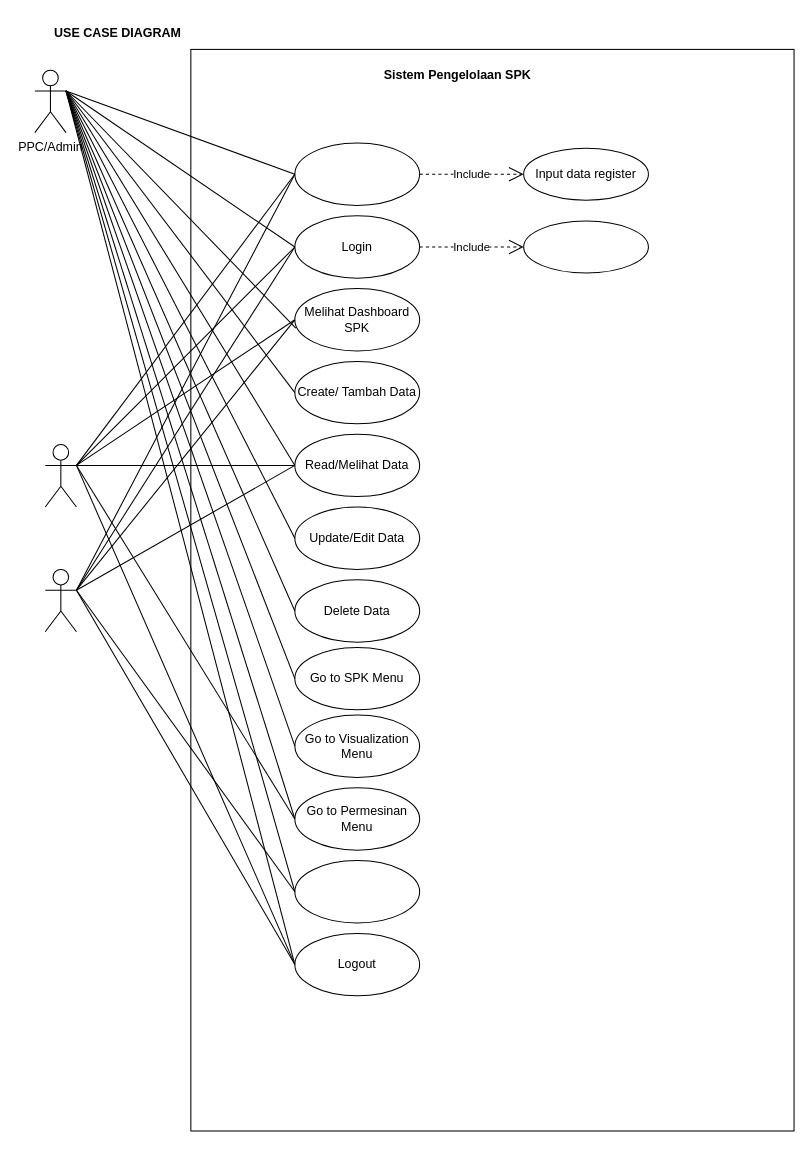
Some shapes in this 812 by 1149 pixel diagram are drawn without their labels. Here are the shapes that lost their labels. From the top down, the centre of each, then its label:
the point at 357,173: Register
the point at 585,246: Input data login
the point at 60,475: User/Produksi
the point at 60,600: User/Gudang
the point at 357,891: Go to Gudang Menu
